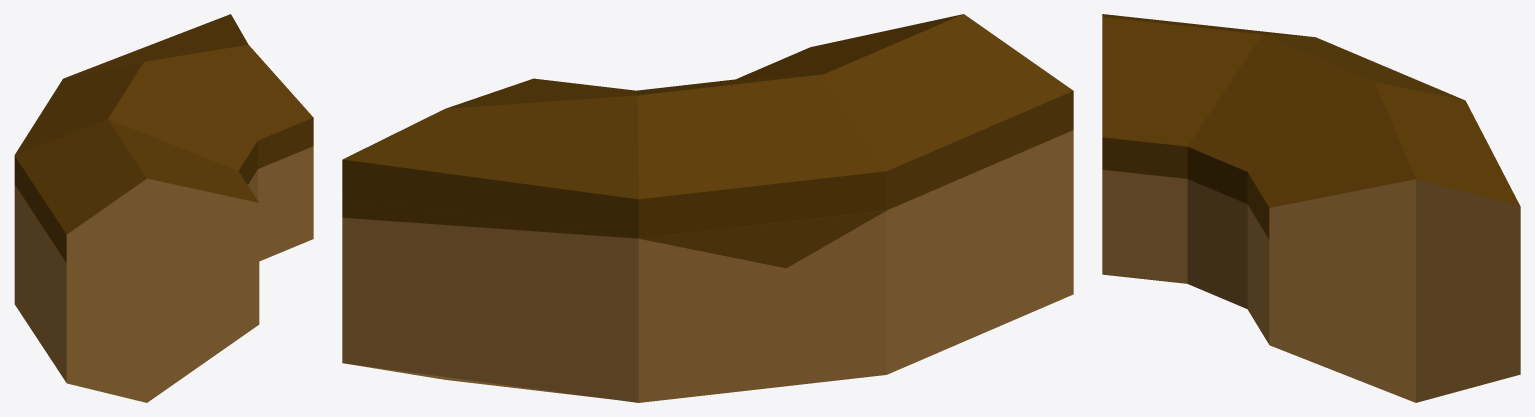
Rendered from Пончик (почти съеденный).fbx.
3 renders of one model, left to right at view 1: azimuth 30°, elevation 25°; view 2: azimuth 150°, elevation 25°; view 3: azimuth 270°, elevation 25°, orthographic. The views are drawn at different scales.
Visible parts, largest first — view 1: Куб; view 2: Куб; view 3: Куб.
Boxes of the visible parts, x1,y1,x2,y2 form: Куб: (14, 14, 313, 402); Куб: (342, 14, 1073, 402); Куб: (1102, 14, 1520, 402).
Bounding box in the file's own units: 103 × 63.37 × 94.81.
